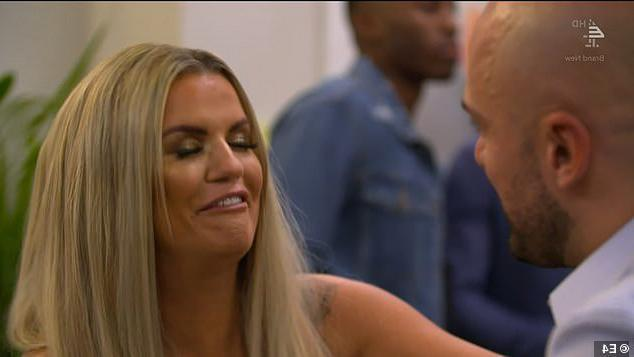Drunk: (146, 73, 259, 247)
